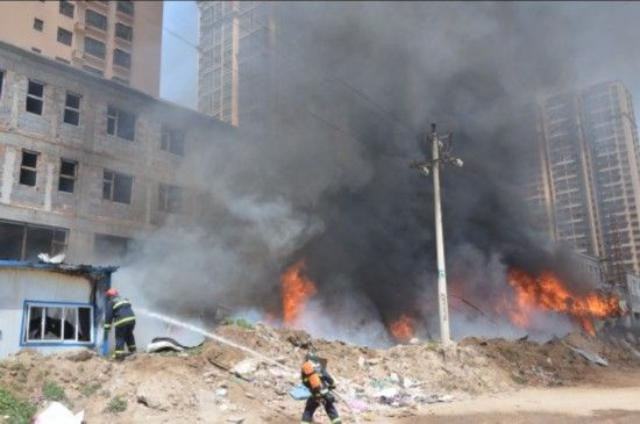fire: (280, 264, 306, 321), (513, 268, 537, 314), (540, 270, 564, 311), (570, 293, 614, 313)
